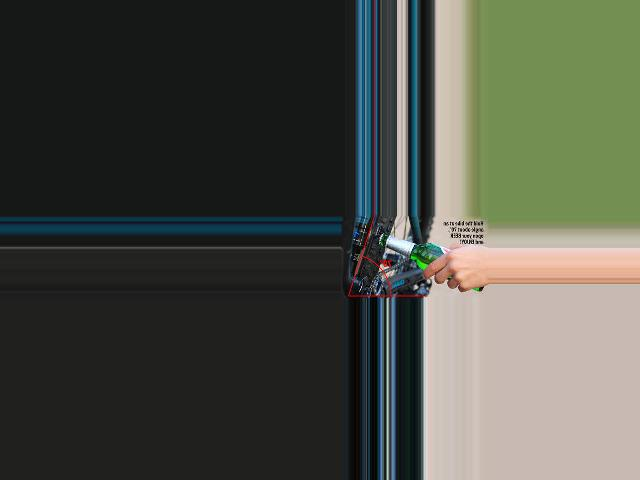beer: (376, 234, 483, 292)
